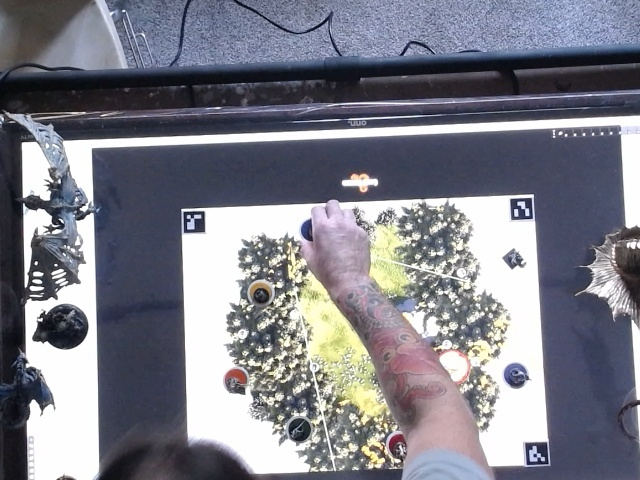blue: (295, 214, 327, 244)
green: (280, 412, 321, 444)
orange: (221, 361, 255, 396)
red: (380, 428, 419, 465)
violet: (499, 357, 533, 390)
yellow: (242, 276, 278, 308)
